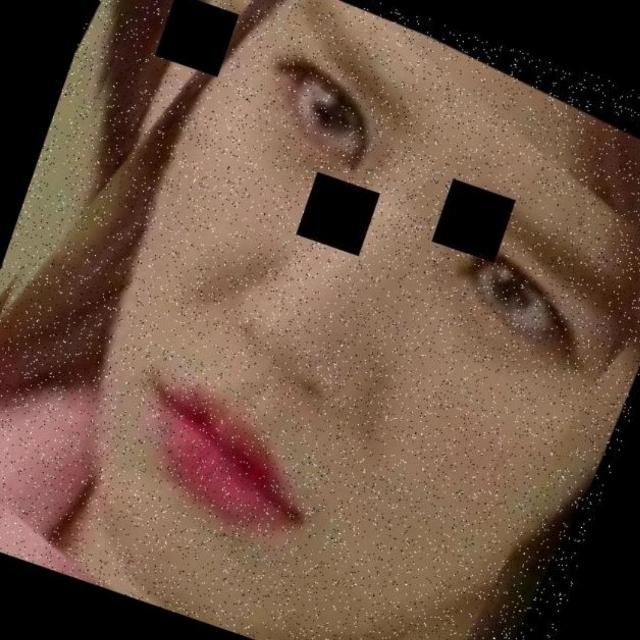Angry: (117, 20, 640, 640)
